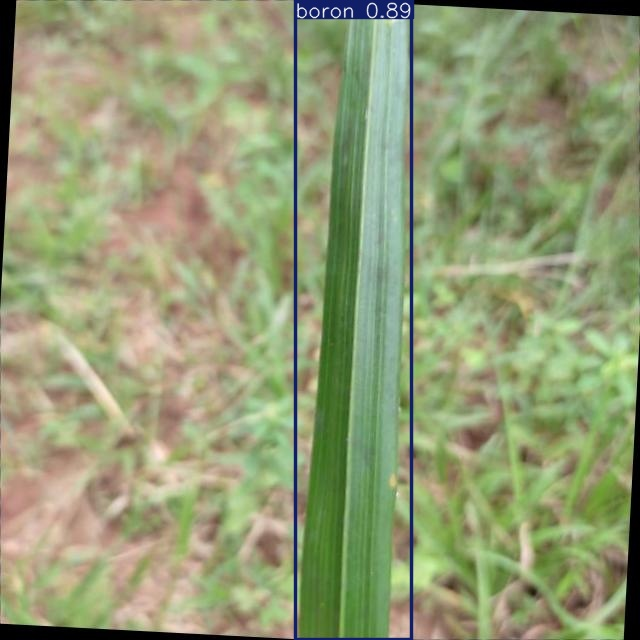nitrogen: (296, 0, 412, 640)
